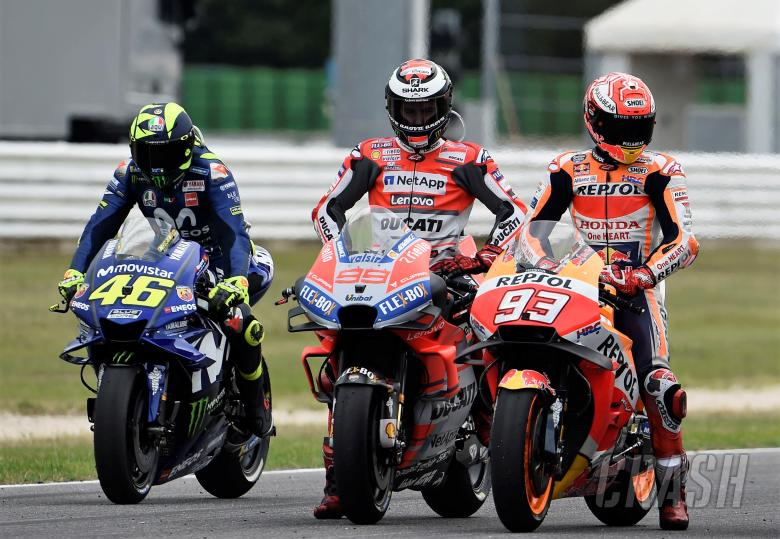helmet: (369, 41, 476, 173), (565, 52, 665, 173), (117, 91, 213, 197)
